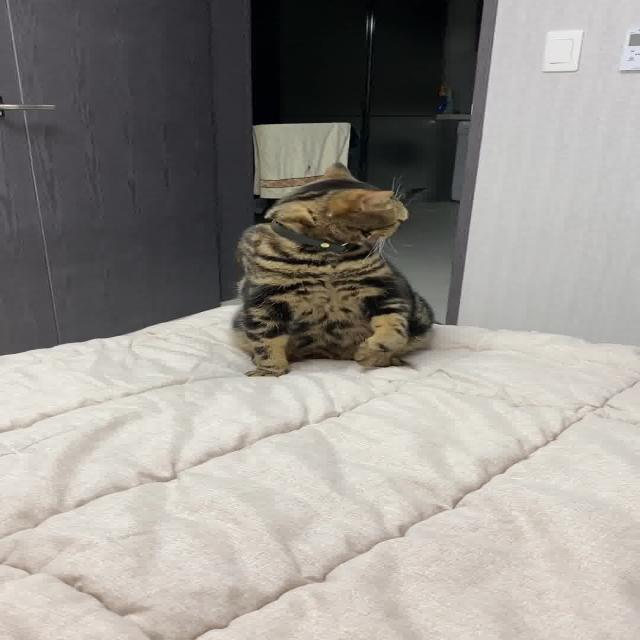cat: (195, 155, 476, 386)
